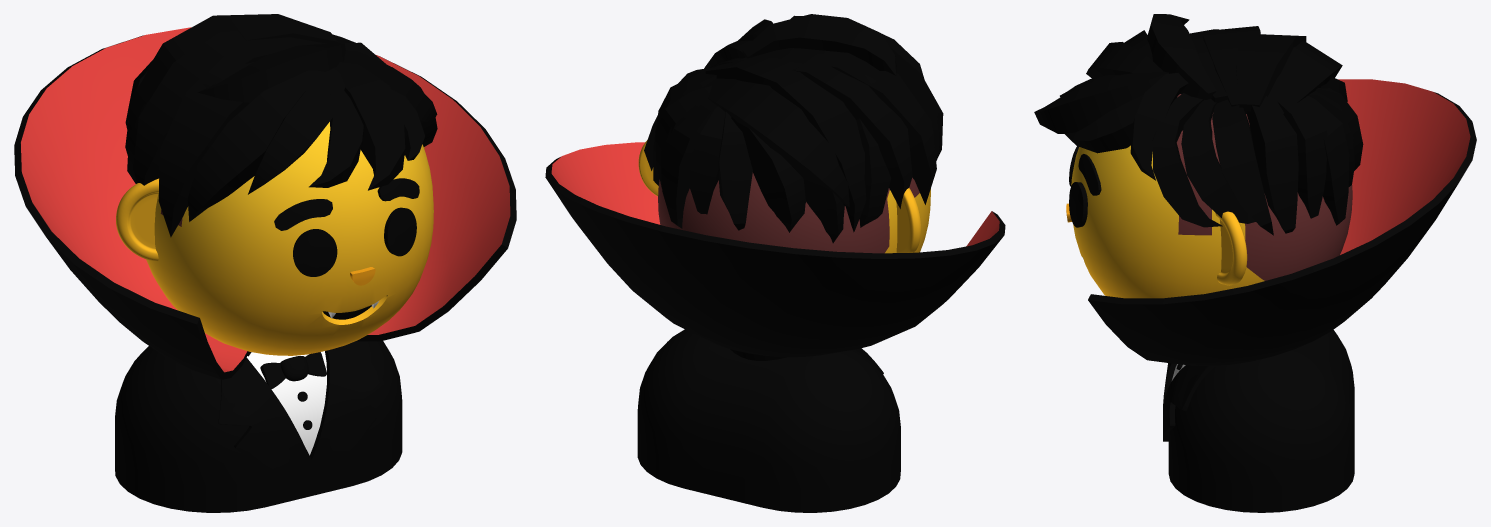
Rendered from vampire.glb.
The picture shows the model from 3 angles, left to right: view 1: azimuth 30°, elevation 25°; view 2: azimuth 150°, elevation 25°; view 3: azimuth 270°, elevation 25°; orthographic projection. The views are drawn at different scales.
Visible parts, largest first — view 1: Circle.1025, Cube.2541, Roundcube.217, Sphere.172, Circle.1022, Circle.1019, Cylinder.185, Circle.1021, Circle.1023, Cube.2549; view 2: Cube.2541, Circle.1025, Sphere.172, Roundcube.217, Cylinder.185; view 3: Cube.2541, Circle.1025, Sphere.172, Roundcube.217, Circle.1022, Cylinder.185, Circle.1019, Circle.1021.
Part boxes in pixels (box(x1,y1,x2,y2)): Circle.1025: box(14, 27, 516, 379); Cube.2541: box(125, 14, 437, 237); Roundcube.217: box(146, 122, 433, 355); Sphere.172: box(115, 341, 402, 512); Circle.1022: box(218, 341, 383, 482); Circle.1019: box(293, 207, 416, 276); Cylinder.185: box(116, 147, 424, 261); Circle.1021: box(274, 178, 419, 230); Circle.1023: box(260, 352, 326, 389); Cube.2549: box(280, 356, 308, 381); Cube.2541: box(644, 14, 943, 243); Circle.1025: box(545, 142, 1005, 360); Sphere.172: box(637, 329, 900, 512); Roundcube.217: box(658, 172, 930, 253); Cylinder.185: box(638, 140, 920, 252); Cube.2541: box(1034, 14, 1363, 235); Circle.1025: box(1088, 79, 1476, 365); Sphere.172: box(1168, 330, 1354, 512); Roundcube.217: box(1071, 94, 1352, 298); Circle.1022: box(1163, 363, 1215, 441); Cylinder.185: box(1215, 211, 1247, 285); Circle.1019: box(1069, 146, 1087, 227); Circle.1021: box(1078, 154, 1101, 195).
Bounding box in the file's own units: 2.53 × 2.48 × 2.38.
Materials: 1 (1 with a texture image).
